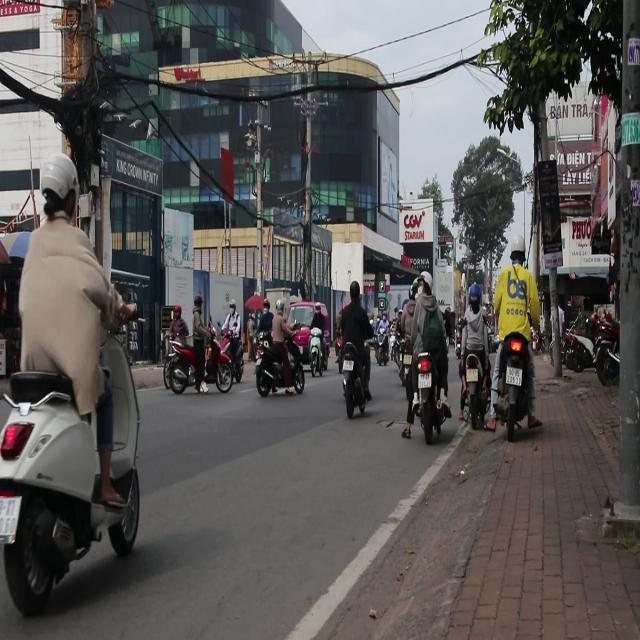motorbike: (0, 321, 146, 621), (163, 333, 239, 395), (494, 332, 532, 444), (255, 327, 308, 398), (410, 348, 446, 440), (340, 332, 370, 426), (587, 310, 622, 385), (557, 314, 595, 374), (463, 355, 488, 421), (309, 332, 328, 378), (376, 332, 390, 366)
